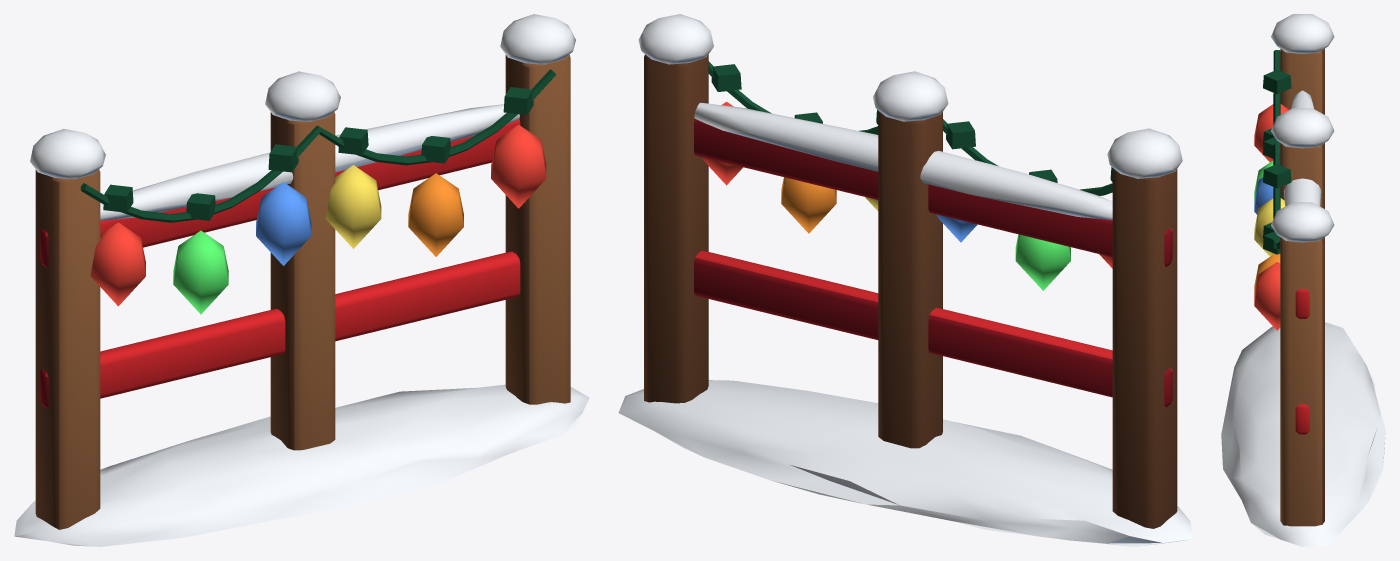
The model's file is LightFence.fbx.
3 views of the same model, side by side, from view 1: azimuth 30°, elevation 25°; view 2: azimuth 150°, elevation 25°; view 3: azimuth 270°, elevation 25° (orthographic). The views are drawn at different scales.
Parts seen in each view (by area): view 1: LightFence; view 2: LightFence; view 3: LightFence.
Boxes of the visible parts, x1,y1,x2,y2 form: LightFence: [14, 14, 589, 546]; LightFence: [618, 14, 1192, 546]; LightFence: [1221, 14, 1385, 546].
Bounding box in the file's own units: 1.7 × 1.12 × 0.5164.
2 materials, 2 textured.
